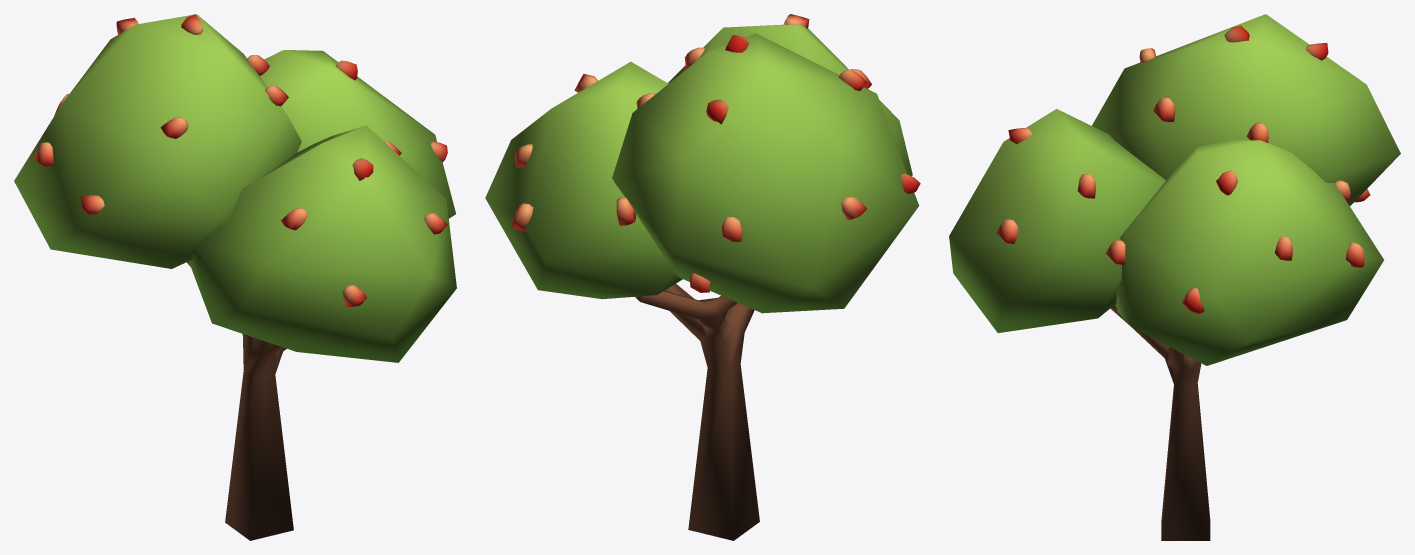
3 views of the same model, side by side, from view 1: azimuth 30°, elevation 25°; view 2: azimuth 150°, elevation 25°; view 3: azimuth 270°, elevation 25° (orthographic). The views are drawn at different scales.
Visible parts, largest first — view 1: TreeRF; view 2: TreeRF; view 3: TreeRF.
Boxes of the visible parts, box(x1,y1,x2,y2) form: TreeRF: box(14, 14, 456, 540); TreeRF: box(485, 14, 920, 540); TreeRF: box(949, 14, 1400, 540).
Size of the model in its own units: 7.14 by 9.02 by 7.6.
1 material, 1 textured.
